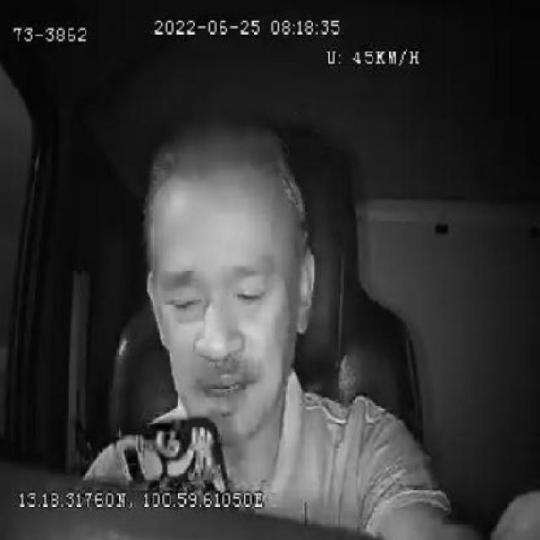phone: (112, 414, 232, 492)
